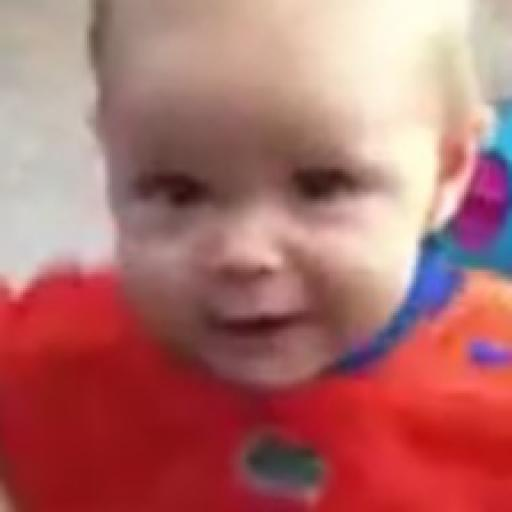Autism: (94, 35, 504, 452)
